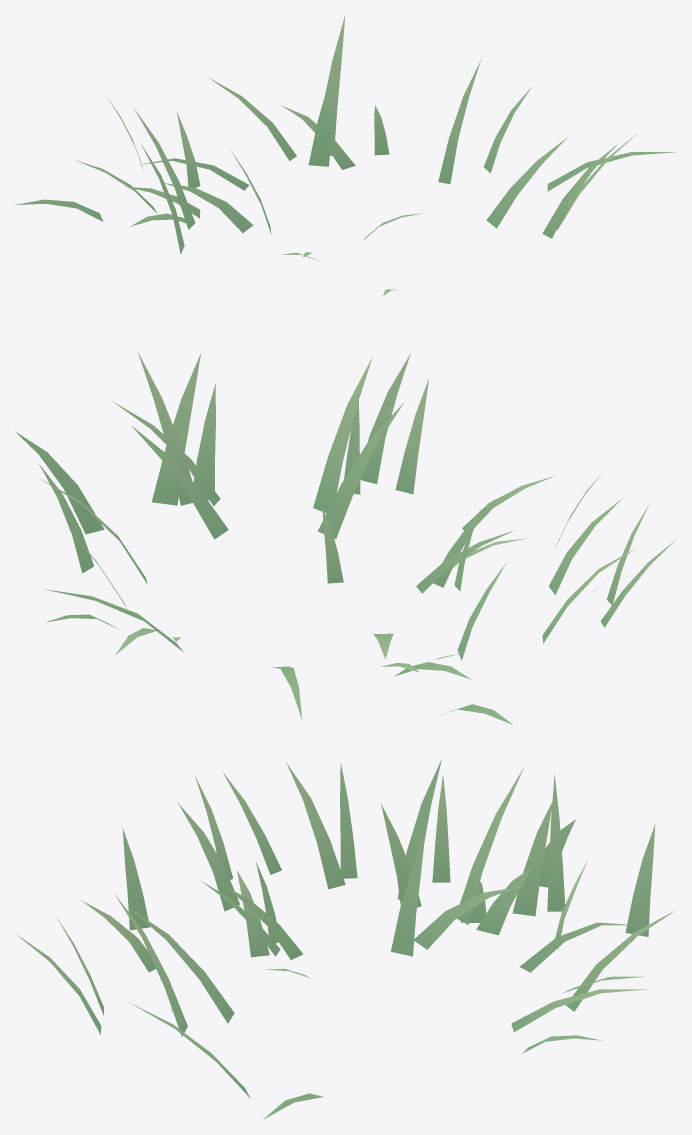
File: grass_sward_c.glb
3 views of the same model, one above another, from view 1: azimuth 30°, elevation 25°; view 2: azimuth 150°, elevation 25°; view 3: azimuth 270°, elevation 25° (orthographic). The views are drawn at different scales.
Parts seen in each view (by area): view 1: soft; view 2: soft; view 3: soft.
Part boxes in pixels (left/top/right/bottom): soft: left=15, top=15, right=676, bottom=295; soft: left=15, top=351, right=677, bottom=724; soft: left=15, top=759, right=675, bottom=1119.
Bounding box in the file's own units: 1.19 × 0.2368 × 1.04.
